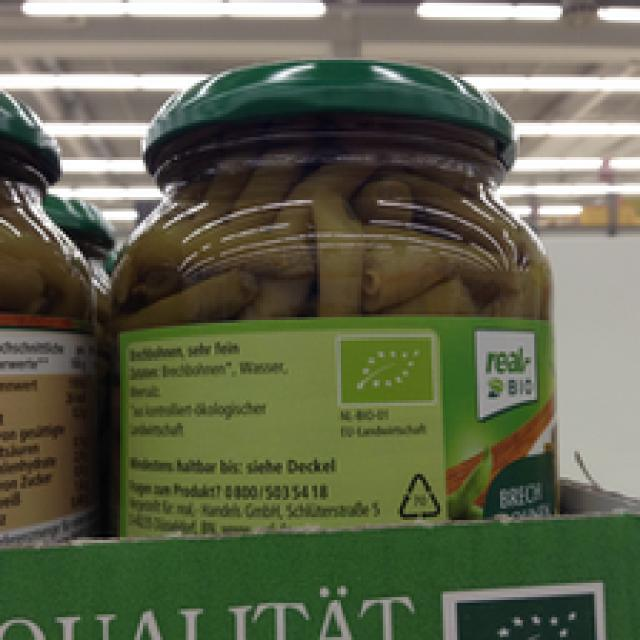groceries: (111, 57, 563, 534)
